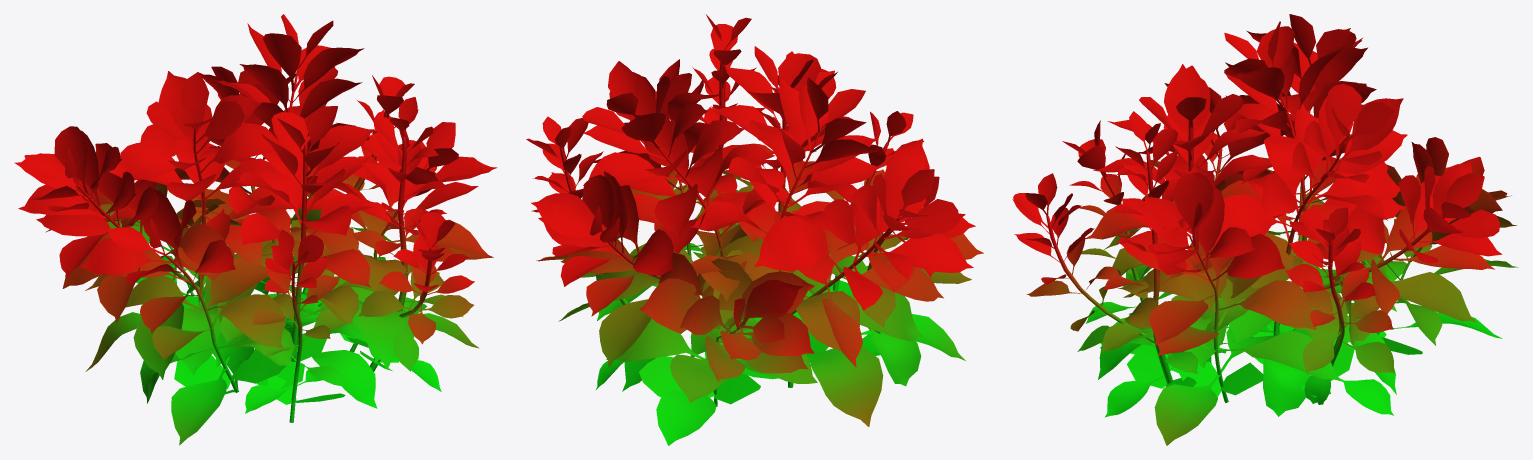
Rendered from Var7_LOD2.fbx.
3 views of the same model, side by side, from view 1: azimuth 30°, elevation 25°; view 2: azimuth 150°, elevation 25°; view 3: azimuth 270°, elevation 25° (orthographic). The views are drawn at different scales.
Parts seen in each view (by area): view 1: _ttbt_Var7_LOD2; view 2: _ttbt_Var7_LOD2; view 3: _ttbt_Var7_LOD2.
Boxes of the visible parts, x1,y1,x2,y2 form: _ttbt_Var7_LOD2: (14, 14, 497, 445); _ttbt_Var7_LOD2: (526, 14, 983, 445); _ttbt_Var7_LOD2: (1012, 14, 1518, 445).
Size of the model in its own units: 94.31 by 70.7 by 98.47.
